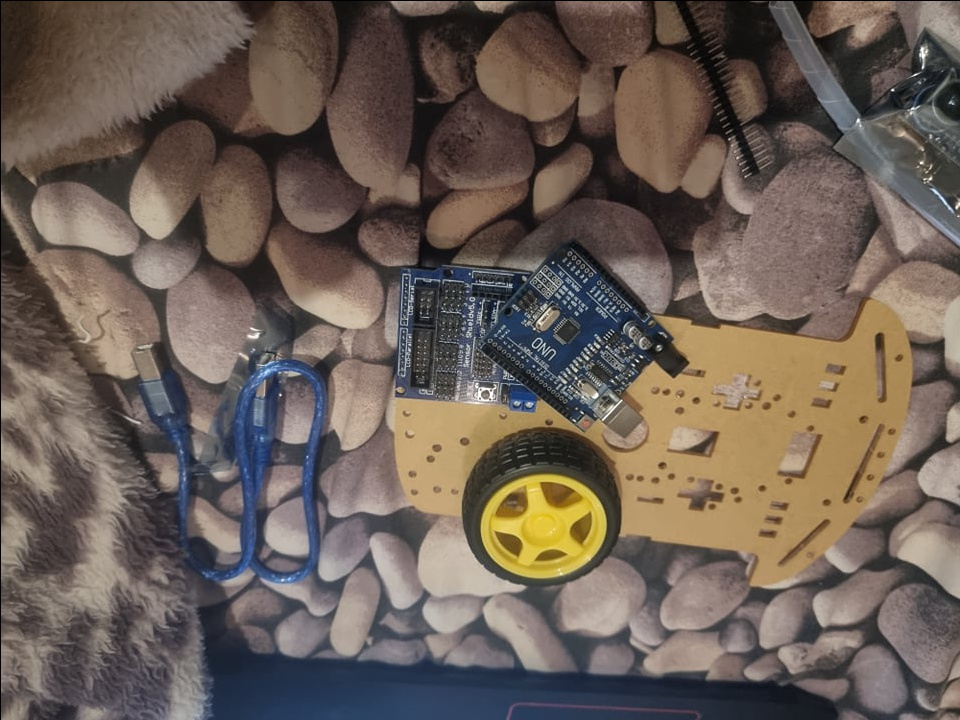5V EXPANSION: (394, 266, 538, 413)
UNO R3: (478, 240, 688, 435)
